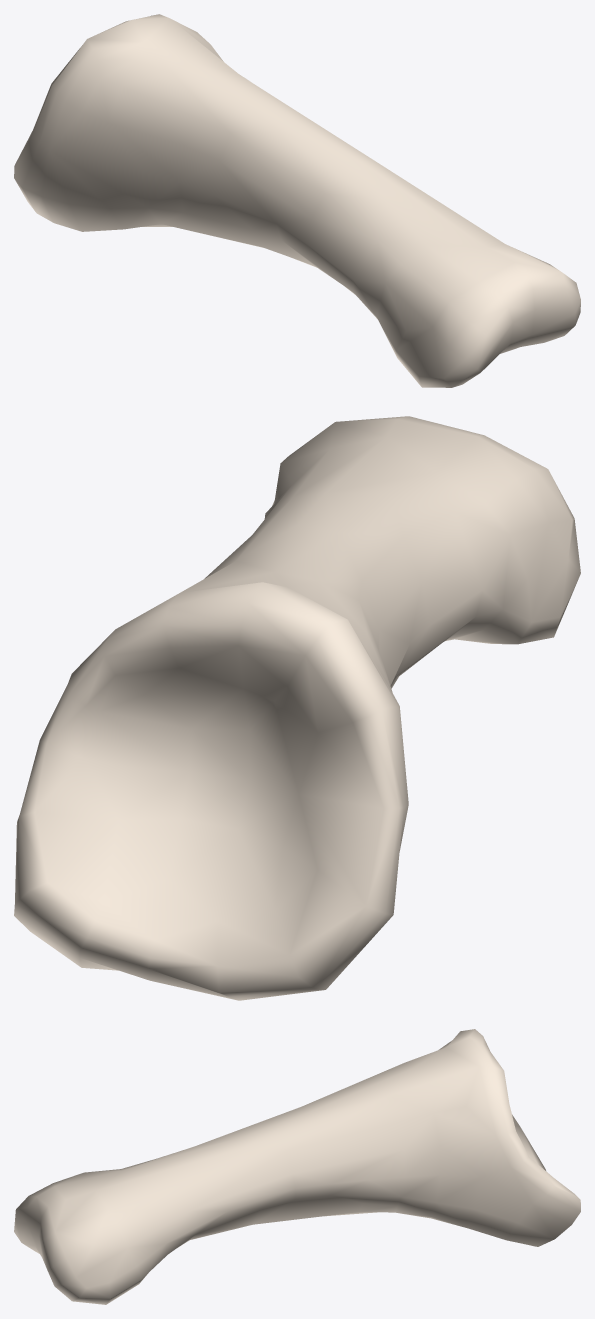
File: left_toe_3_proximal.glb
3 renders of one model, top to bottom at view 1: azimuth 30°, elevation 25°; view 2: azimuth 150°, elevation 25°; view 3: azimuth 270°, elevation 25°, orthographic. The views are drawn at different scales.
Parts seen in each view (by area): view 1: Proximal phalanx of third finger of foot.r; view 2: Proximal phalanx of third finger of foot.r; view 3: Proximal phalanx of third finger of foot.r.
Boxes of the visible parts, <box> form: Proximal phalanx of third finger of foot.r: <box>14,14,580,387</box>; Proximal phalanx of third finger of foot.r: <box>14,416,580,1000</box>; Proximal phalanx of third finger of foot.r: <box>14,1029,580,1304</box>.
Bounding box in the file's own units: 0.0129 × 0.0085 × 0.023.
